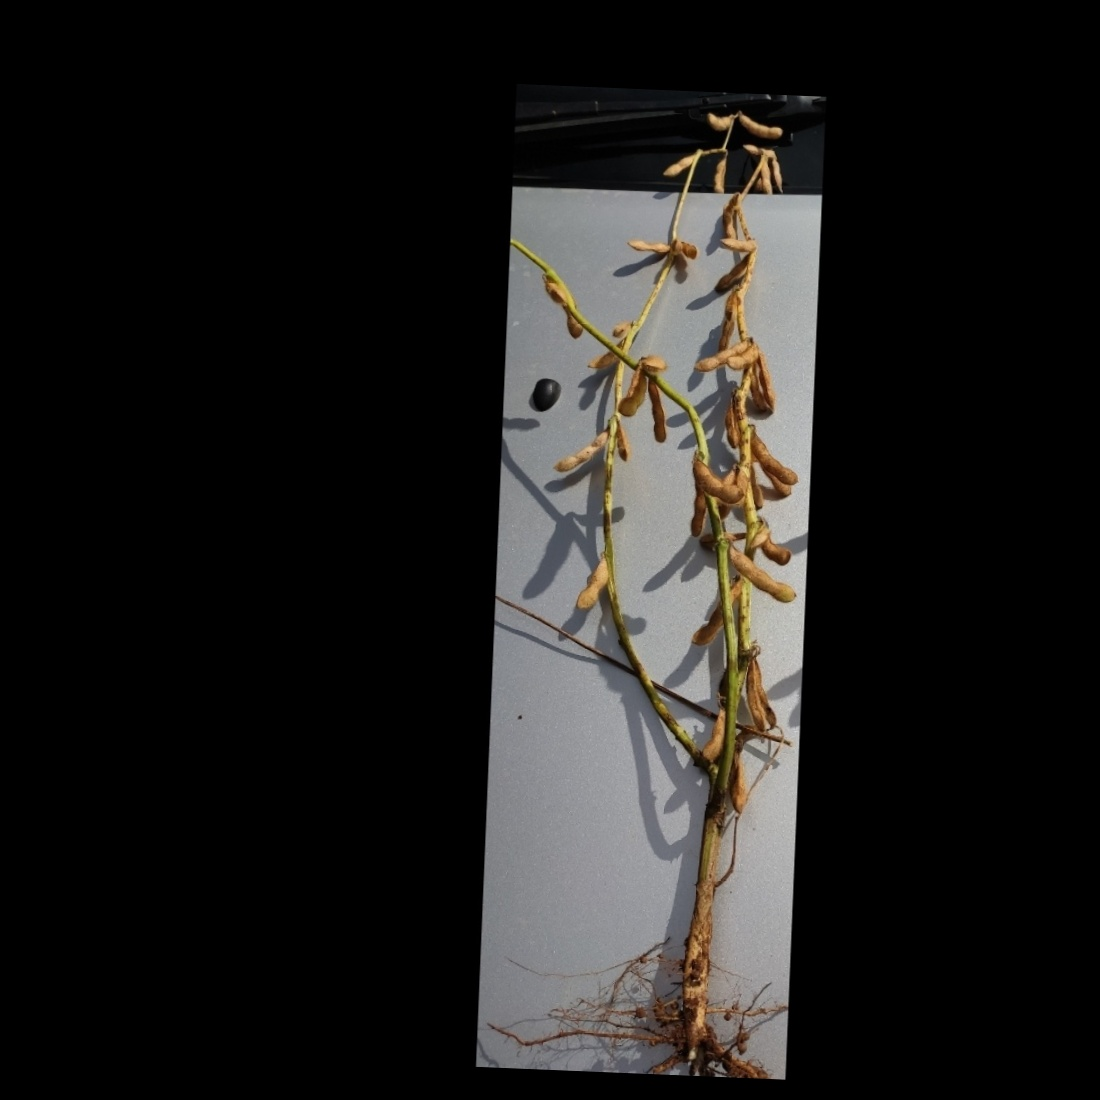pod: (726, 546, 798, 604), (548, 419, 608, 476), (749, 424, 805, 487), (690, 456, 747, 505), (691, 330, 750, 374), (641, 375, 670, 455), (730, 105, 789, 145), (574, 554, 609, 617), (702, 703, 729, 764), (660, 149, 700, 179), (625, 235, 674, 259), (708, 153, 728, 202), (709, 235, 757, 255)
soy: (497, 88, 821, 1069)
